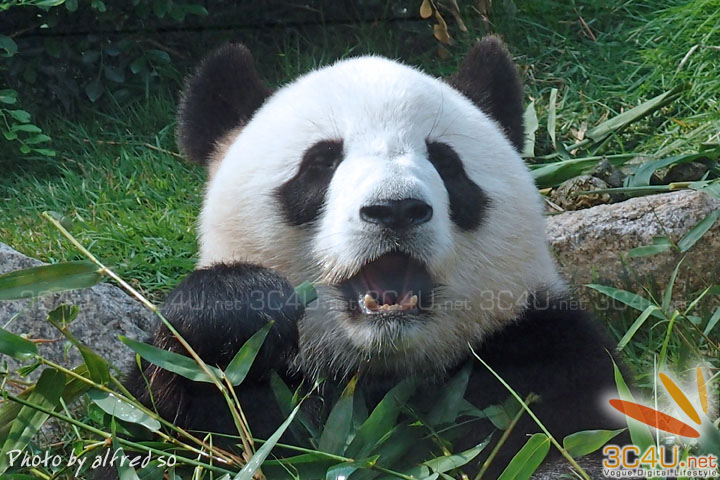panda: (128, 29, 636, 476)
